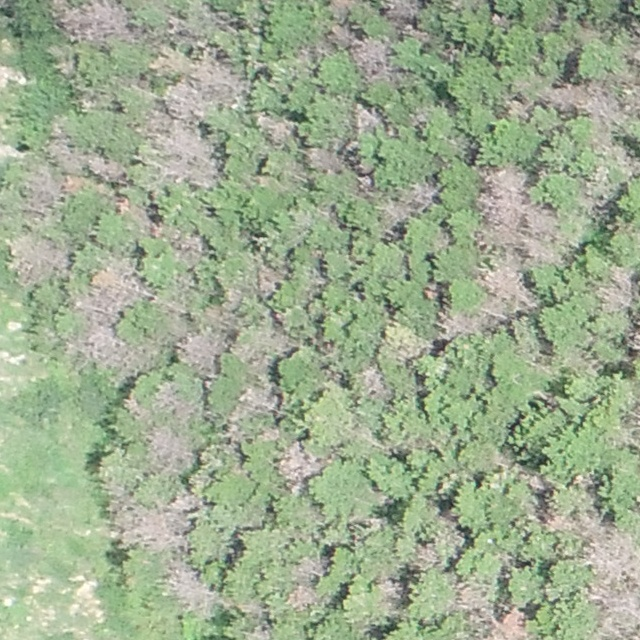unhealthy: (475, 167, 565, 257), (143, 117, 221, 187), (111, 498, 192, 553), (77, 258, 147, 321), (58, 0, 132, 46), (7, 234, 68, 285), (478, 261, 538, 311), (162, 562, 218, 613), (78, 325, 141, 370), (585, 582, 639, 634), (583, 531, 637, 583), (190, 53, 242, 96), (346, 34, 394, 80), (146, 426, 194, 470), (22, 165, 61, 217), (595, 267, 640, 312), (177, 330, 226, 370), (277, 441, 319, 486), (164, 9, 215, 44), (579, 82, 620, 125), (45, 129, 83, 174), (164, 82, 204, 122), (154, 380, 194, 419), (452, 578, 492, 614), (542, 81, 585, 114), (253, 111, 294, 144), (84, 153, 128, 183), (237, 384, 278, 416), (118, 198, 154, 234), (489, 608, 529, 640), (167, 230, 205, 262), (439, 309, 480, 338), (197, 5, 239, 33), (149, 46, 187, 76), (563, 345, 601, 374), (304, 144, 343, 172), (357, 364, 387, 399), (351, 101, 383, 131), (408, 180, 439, 210), (379, 0, 420, 22), (169, 490, 206, 514), (292, 555, 327, 580), (375, 575, 404, 604), (379, 199, 411, 225), (287, 582, 317, 609), (257, 264, 282, 295), (327, 22, 356, 47), (412, 543, 440, 567), (624, 322, 639, 356), (328, 0, 356, 18), (239, 598, 264, 618), (571, 472, 597, 491), (524, 471, 547, 492), (244, 625, 271, 639)
